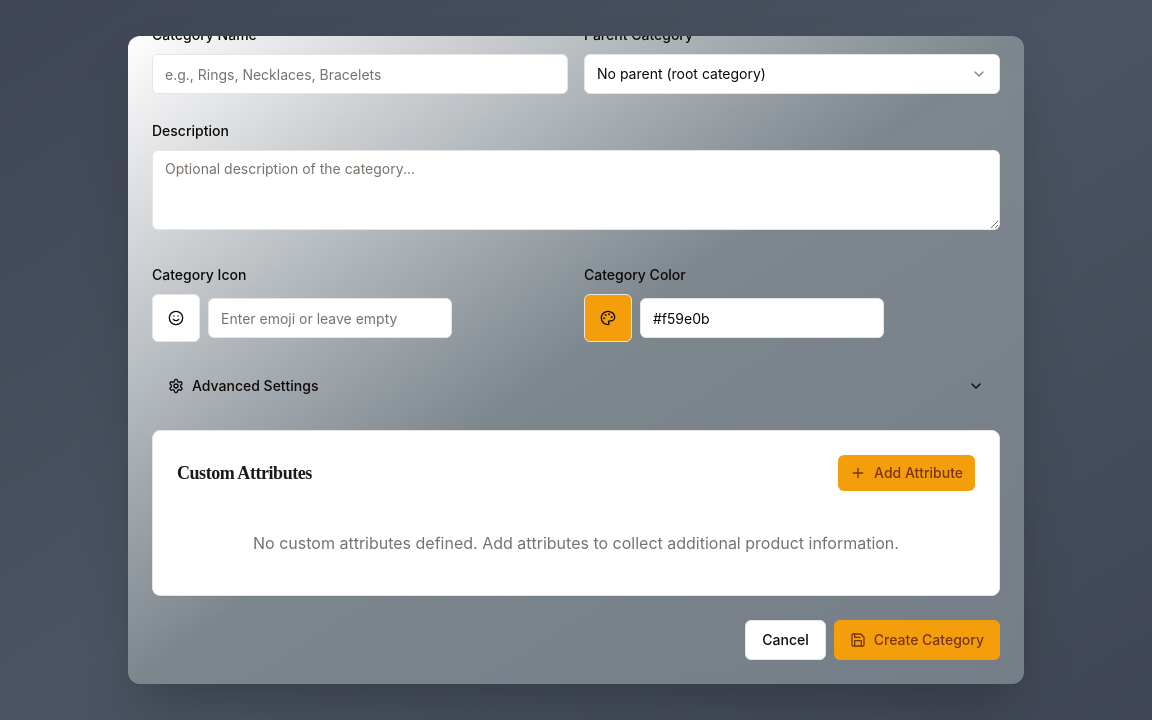
CategoryForm › validates required fields
(page scrolled)
// Try to submit without required fields
Click the button "Create Category" at (917, 640), box 834,620 -> 1000,660
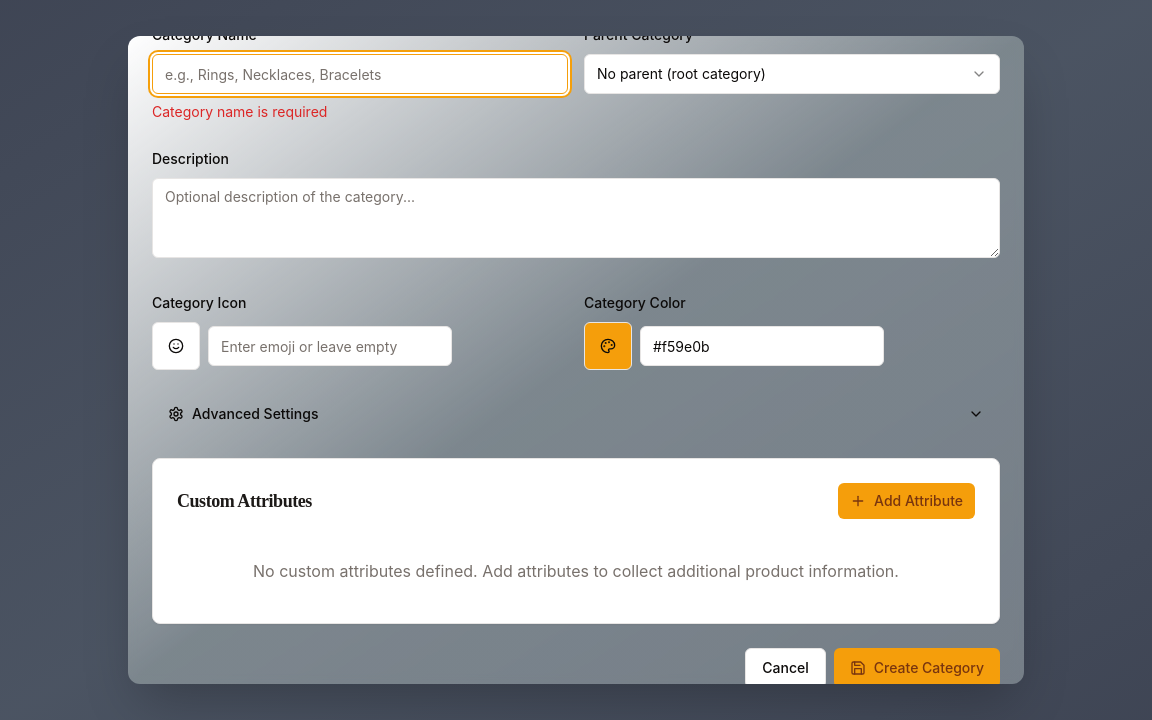
Now the text "Category name is required" is shown, box 152,103 -> 327,120
